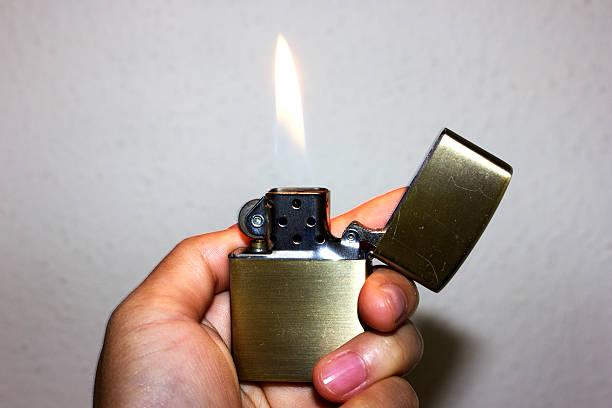Fire: (271, 36, 308, 160)
